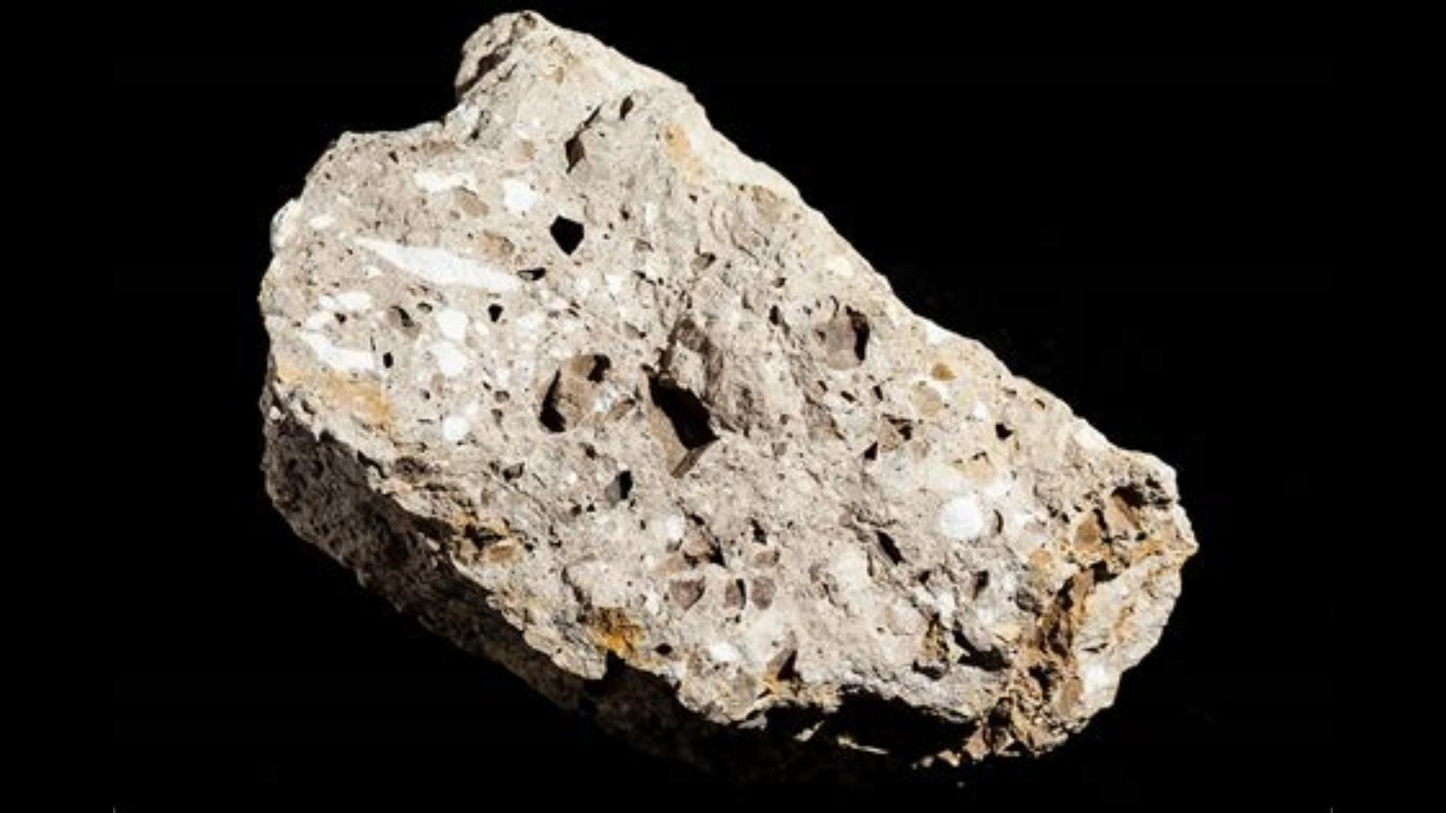rock: (260, 13, 1194, 759)
